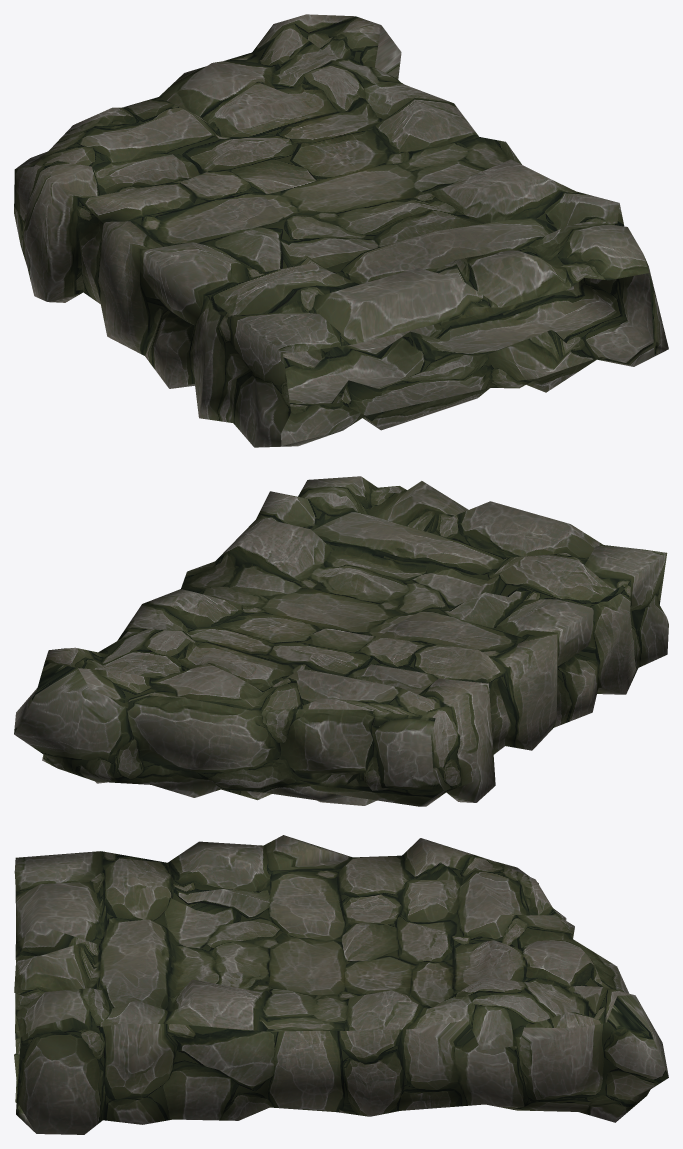
File: TI_Wall_HP_01.fbx
3 renders of one model, top to bottom at view 1: azimuth 30°, elevation 25°; view 2: azimuth 150°, elevation 25°; view 3: azimuth 270°, elevation 25°, orthographic. The views are drawn at different scales.
Parts seen in each view (by area): view 1: TI_Wall_HP_01; view 2: TI_Wall_HP_01; view 3: TI_Wall_HP_01.
Part boxes in pixels (x1=…): TI_Wall_HP_01: x1=14, y1=14, x2=668, y2=447; TI_Wall_HP_01: x1=14, y1=476, x2=668, y2=806; TI_Wall_HP_01: x1=14, y1=835, x2=668, y2=1134.
Bounding box in the file's own units: 2.11 × 0.6732 × 3.
